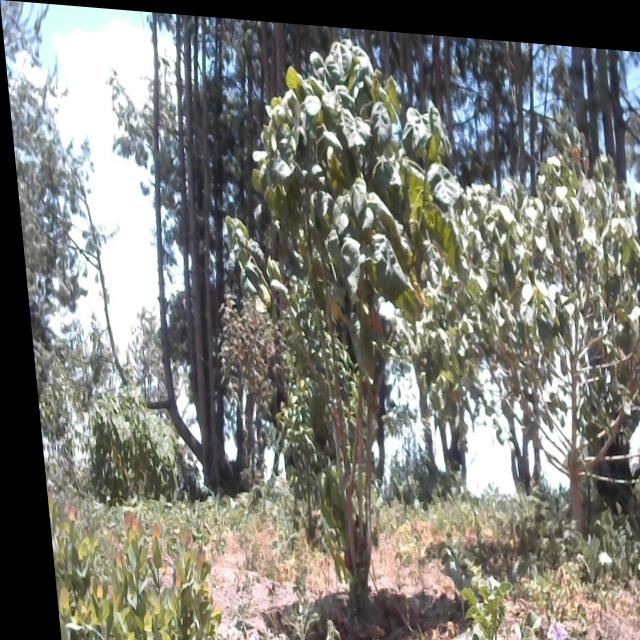Syzygium gineense: (37, 493, 195, 640)
other: (206, 28, 472, 620), (441, 125, 640, 521), (74, 374, 171, 499)
